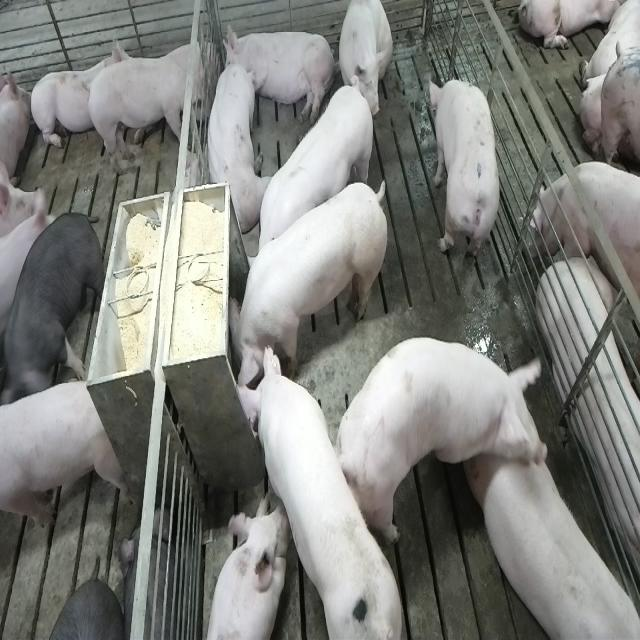Feeding: (226, 341, 400, 635), (220, 173, 386, 399)
Lateral_lying: (538, 252, 640, 603), (222, 21, 336, 126)
Sitting: (336, 2, 392, 122)
Standing: (340, 337, 554, 547), (487, 459, 640, 640), (248, 78, 380, 283), (2, 376, 130, 534), (2, 215, 104, 412), (85, 54, 216, 182), (420, 72, 500, 270), (532, 162, 640, 304)
Sternal_lying: (32, 29, 136, 152), (202, 497, 284, 640), (202, 55, 264, 234)
